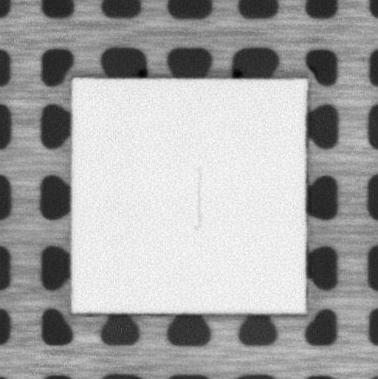DIE_CRACK: (191, 166, 204, 232)
